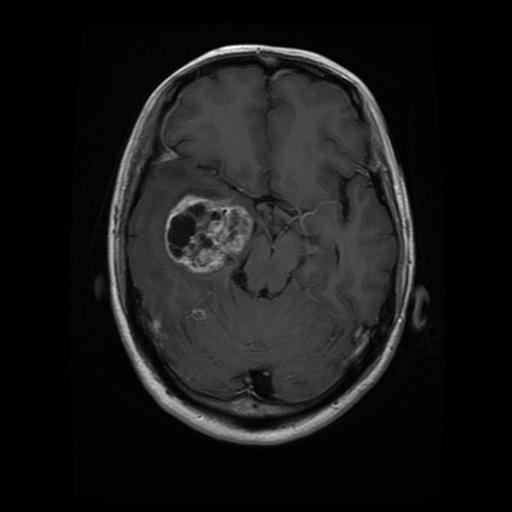Gliomia_tumour: (164, 188, 252, 273)
